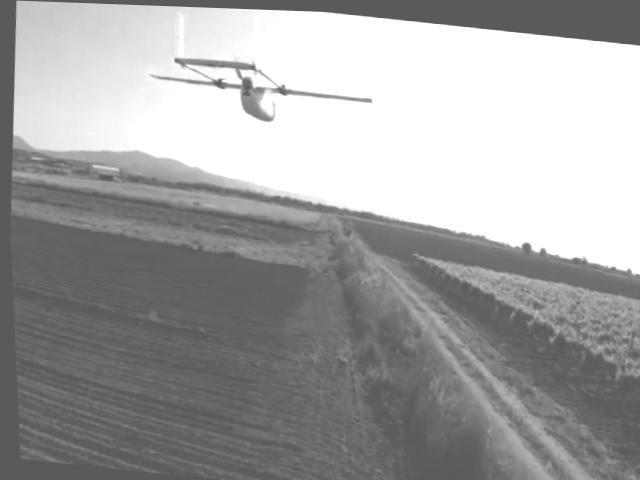hedef: (114, 3, 393, 187)
